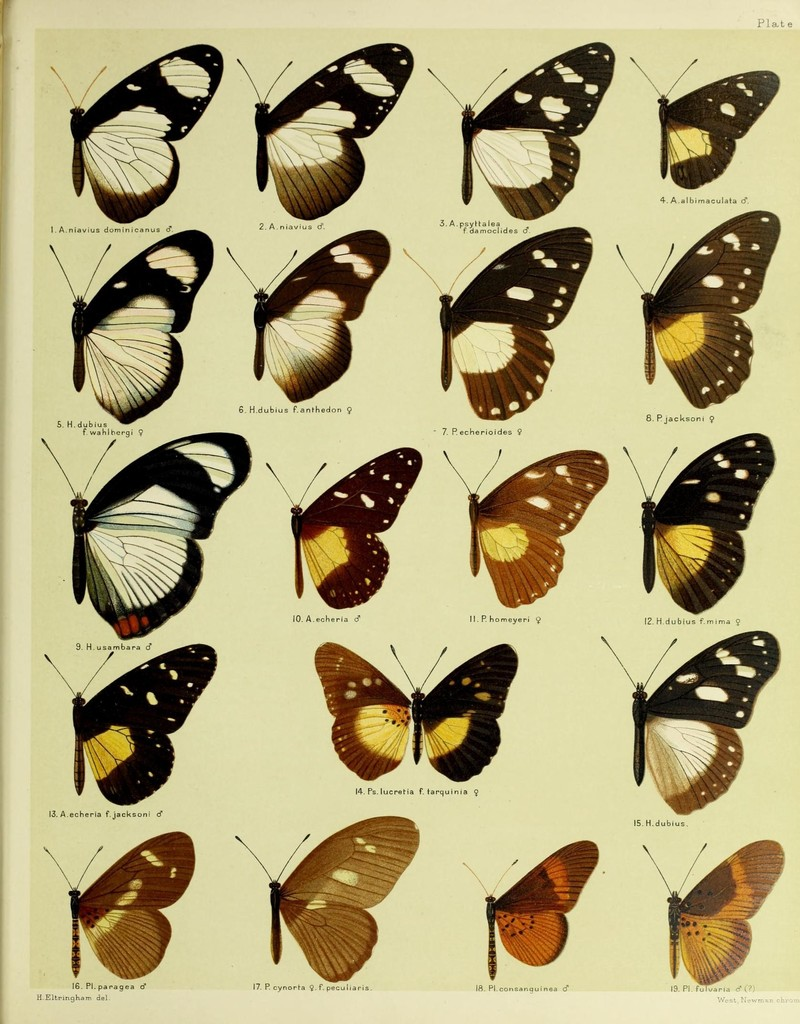Butterfly: (260, 635, 564, 806), (37, 427, 269, 651), (567, 622, 799, 829), (606, 427, 792, 631), (426, 812, 631, 997), (37, 224, 231, 418), (430, 42, 631, 227), (214, 812, 430, 983), (416, 227, 605, 422), (435, 430, 614, 630), (264, 434, 438, 635), (227, 231, 409, 420), (38, 37, 221, 224), (230, 41, 419, 222), (623, 213, 782, 415), (41, 640, 223, 809), (31, 820, 219, 979), (648, 41, 800, 213), (628, 829, 796, 981)
